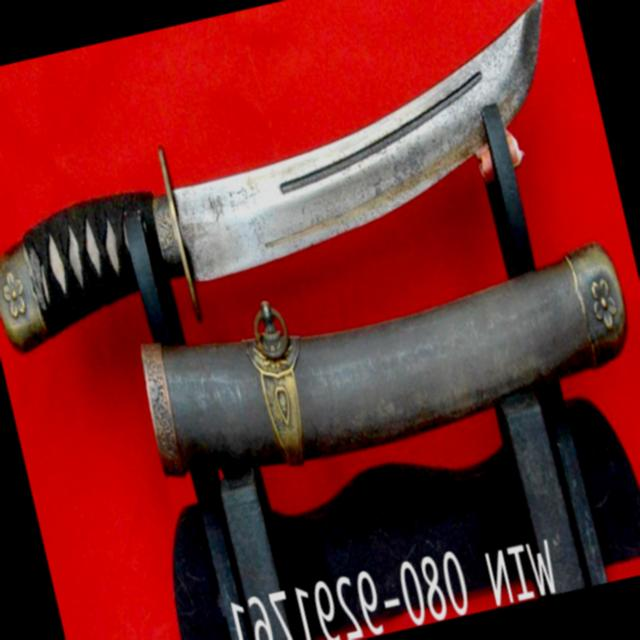short sword: (0, 0, 614, 386)
